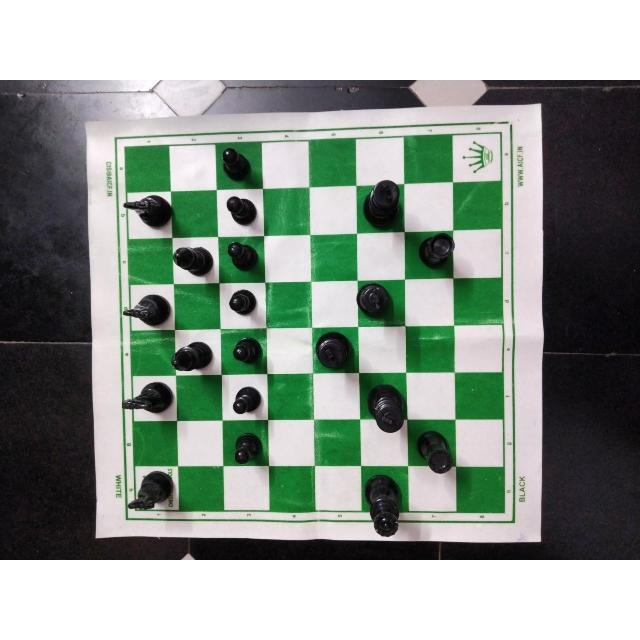black-bishop: (172, 240, 218, 280), (167, 338, 216, 374)
black-king: (356, 178, 408, 233), (359, 383, 409, 435), (355, 281, 404, 325), (312, 328, 356, 372)
black-knight: (121, 192, 175, 232), (120, 380, 176, 418), (122, 290, 176, 328), (125, 471, 175, 511)
black-pawn: (225, 428, 264, 471), (218, 145, 258, 185), (220, 238, 262, 276), (226, 383, 264, 419), (225, 288, 265, 322), (228, 332, 264, 369), (225, 192, 259, 228)
black-queen: (361, 470, 409, 542)
black-rook: (410, 425, 459, 477), (416, 230, 460, 272)
